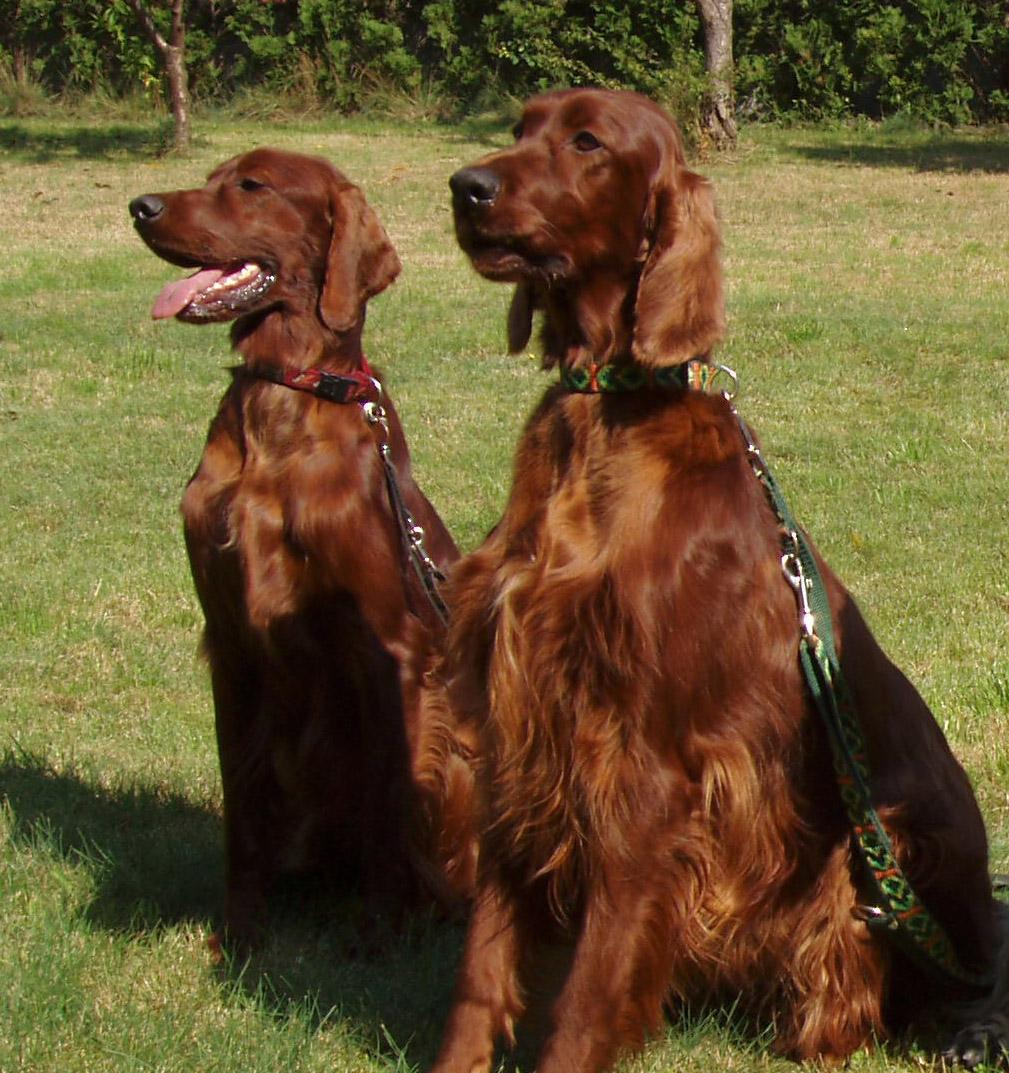Irish_setter: (418, 80, 1006, 1070), (126, 142, 469, 965)
